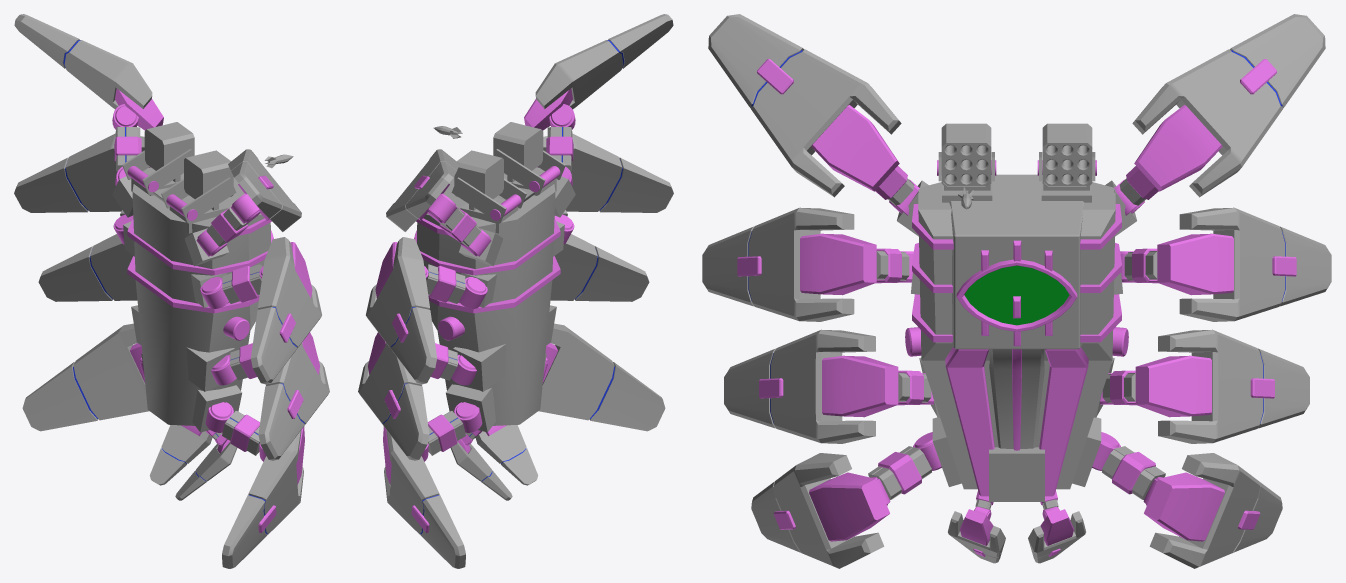
File: Boss_v2.fbx
3 renders of one model, left to right at view 1: azimuth 30°, elevation 25°; view 2: azimuth 150°, elevation 25°; view 3: azimuth 270°, elevation 25°, orthographic. The views are drawn at different scales.
Visible parts, largest first — view 1: polySurface28 (×4), polySurface24 (×4), pCube60, polySurface32 (×2), polySurface34 (×2), pCube6 (×4), pCube1 (×4), pCylinder3 (×3), pCube79, pCube78, polySurface30 (×2), pCube67 (+10 smaller); view 2: polySurface28 (×4), polySurface24 (×4), pCube60, polySurface32 (×2), polySurface34 (×2), pCube6 (×4), pCube1 (×4), pCylinder3 (×3), pCube63, pCube75, polySurface30 (×2), pCube67 (+10 smaller); view 3: polySurface28 (×4), polySurface32 (×2), polySurface29 (×4), polySurface24 (×4), pCube60, pCube18, polySurface25 (×4), polySurface33 (×2), polySurface34 (×2), pCylinder32, pCube72, pCube77 (+7 smaller).
Part boxes in pixels (box(x1,y1,x2,y2)): polySurface28 (×4): box(14, 133, 329, 460); polySurface24 (×4): box(22, 323, 303, 568); pCube60: box(132, 167, 270, 425); polySurface32 (×2): box(14, 14, 301, 231); polySurface34 (×2): box(144, 122, 233, 198); pCube6 (×4): box(114, 136, 260, 451); pCube1 (×4): box(115, 127, 261, 455); pCylinder3 (×3): box(200, 277, 236, 432); pCube79: box(186, 347, 234, 391); pCube78: box(192, 385, 241, 432); polySurface30 (×2): box(112, 104, 260, 223); pCube67: box(181, 177, 236, 223); polySurface28 (×4): box(358, 133, 673, 460); polySurface24 (×4): box(384, 323, 665, 568); pCube60: box(417, 167, 555, 425); polySurface32 (×2): box(386, 14, 673, 231); polySurface34 (×2): box(454, 122, 543, 198); pCube6 (×4): box(427, 136, 573, 451); pCube1 (×4): box(426, 127, 572, 455); pCylinder3 (×3): box(451, 277, 487, 432); pCube63: box(453, 344, 505, 391); pCube75: box(446, 384, 495, 432); polySurface30 (×2): box(427, 104, 575, 223); pCube67: box(451, 177, 506, 223); polySurface28 (×4): box(702, 207, 1331, 443); polySurface32 (×2): box(708, 14, 1325, 197); polySurface29 (×4): box(800, 233, 1233, 417); polySurface24 (×4): box(751, 453, 1282, 568); pCube60: box(918, 182, 1115, 489); pCube18: box(949, 174, 1084, 349); polySurface25 (×4): box(809, 472, 1224, 545); polySurface33 (×2): box(811, 105, 1222, 191); polySurface34 (×2): box(941, 123, 1092, 187); pCylinder32: box(956, 259, 1077, 331); pCube72: box(945, 347, 994, 496); pCube77: box(1039, 347, 1088, 496).
Size of the model in its own units: 29.06 by 74.41 by 80.89.
